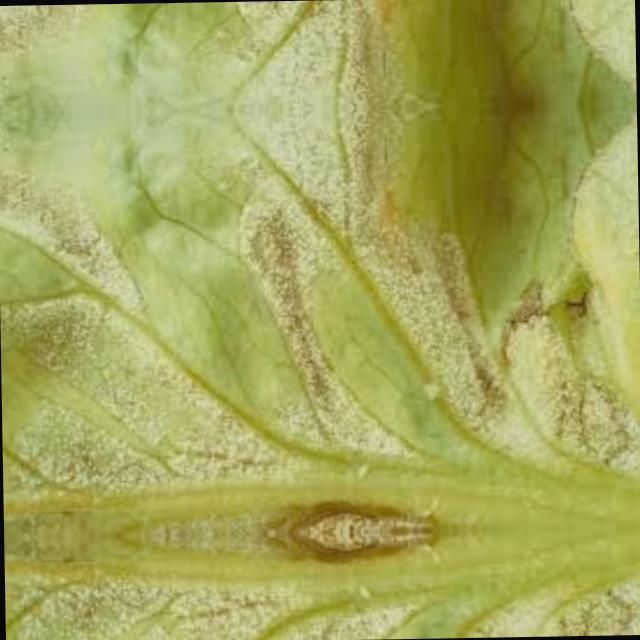Lettuce - Anthracnose: (0, 101, 640, 536), (6, 526, 640, 640), (0, 0, 636, 112)
